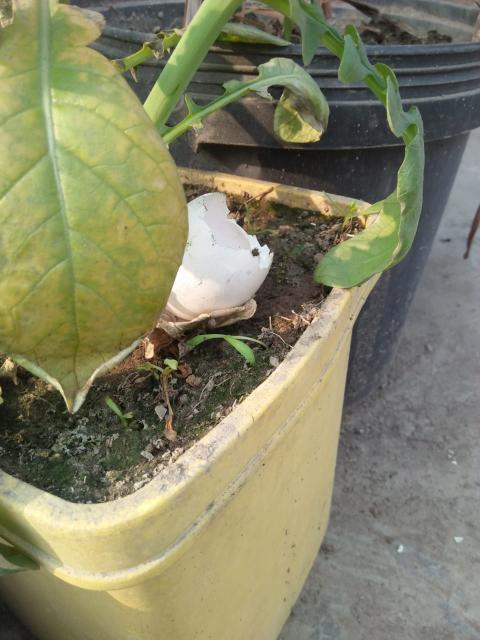Roto: (163, 190, 274, 322)
